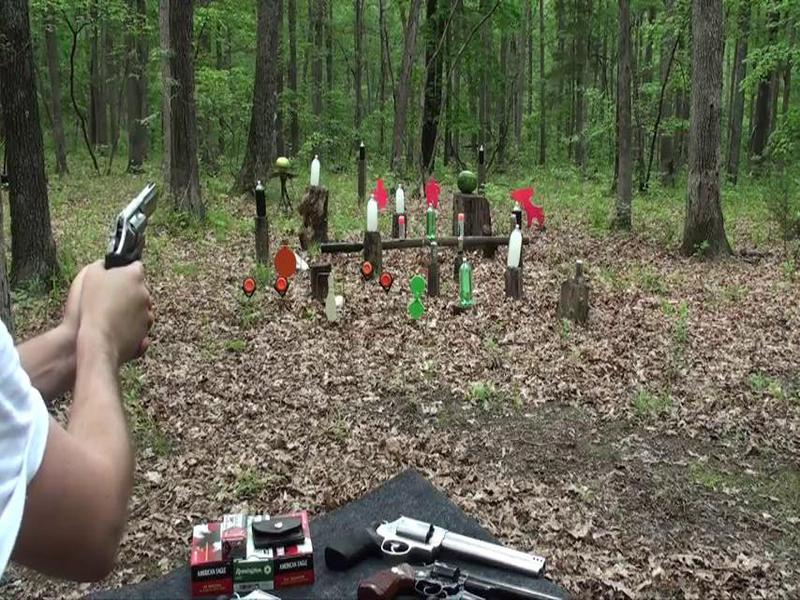Revolver: (95, 174, 177, 276)
